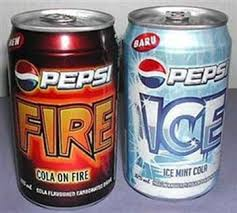can: (5, 3, 120, 210), (127, 6, 227, 202)
